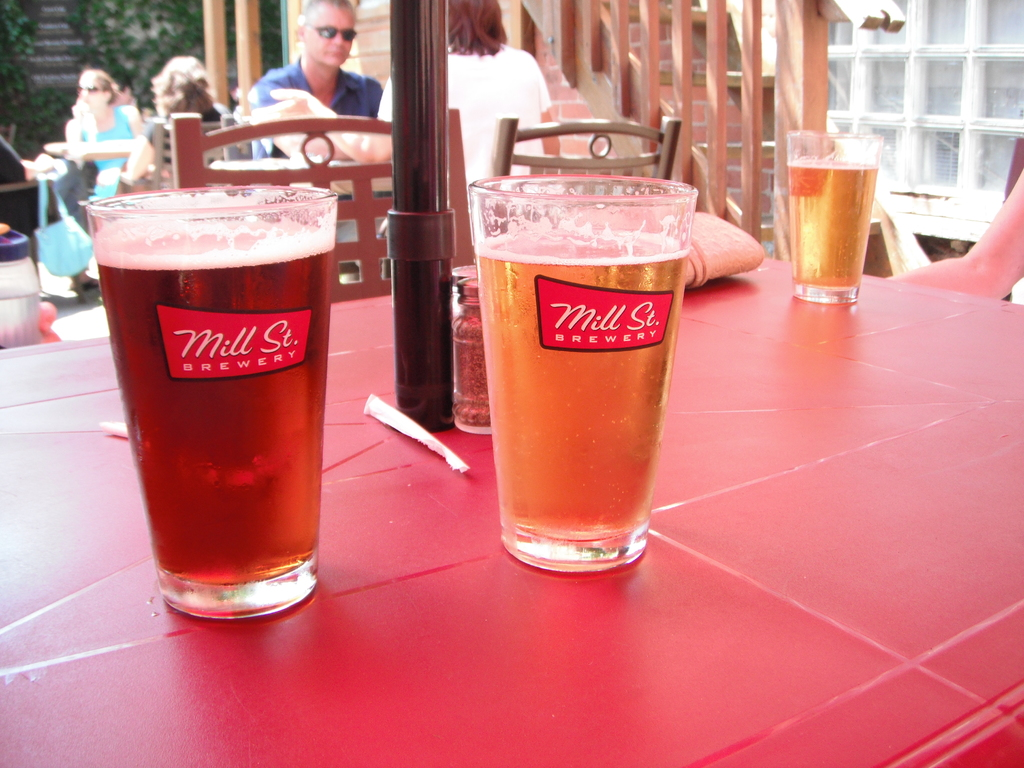Beer: (91, 174, 341, 625), (471, 227, 686, 536), (784, 157, 875, 288)
